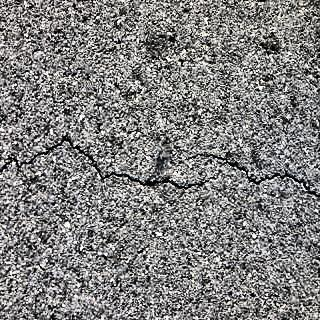crack: (0, 125, 320, 210)
